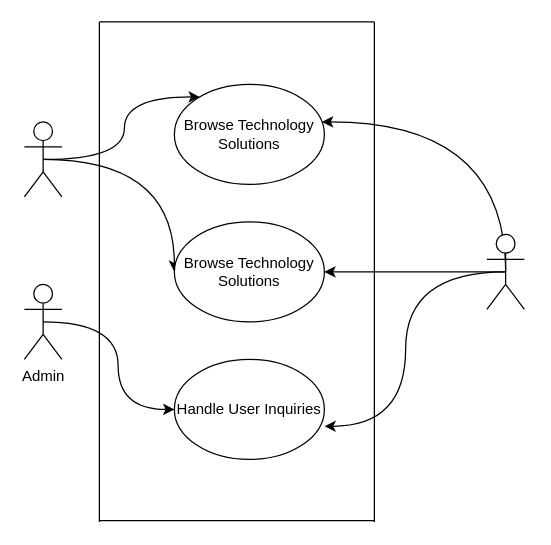
Image size: 551x545. Some labels were removed from this diagram. Each missing label, with the centre of its shape:
System: point (505, 271)
User: point (42, 159)
